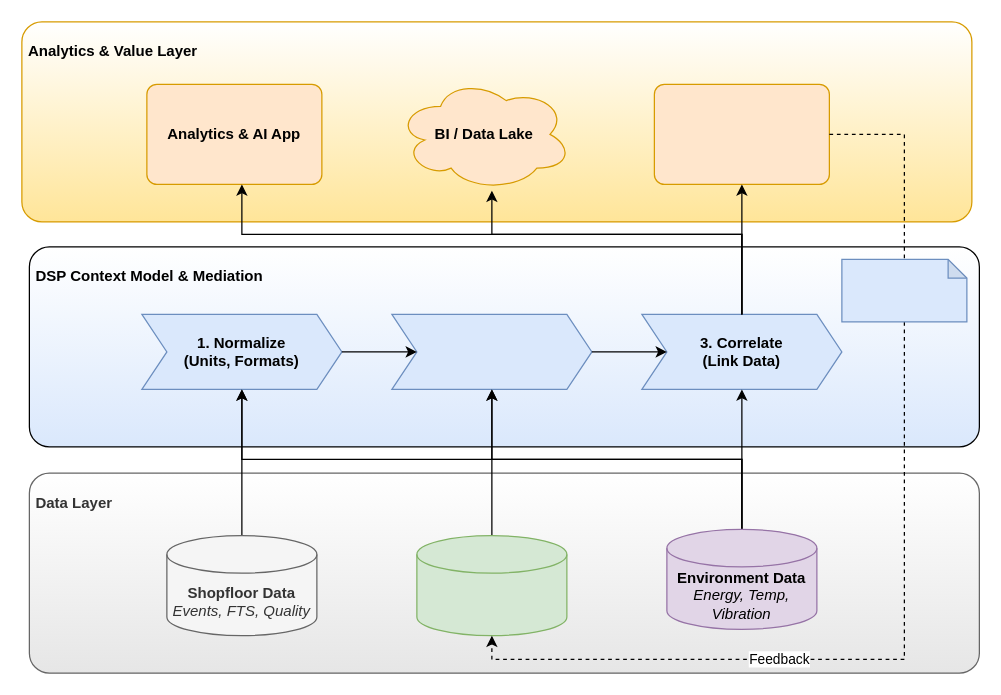
Image size: 1001x695. Some labels were removed from this diagram. Each missing label, with the centre of its shape:
2. Enrich (Add Content): the point at 491,351
Business Data ERP, Order, Material: the point at 491,585
Closed Loop / ERP: the point at 741,133
Order ↔ Werkstück-ID ↔ Station: the point at 904,290
